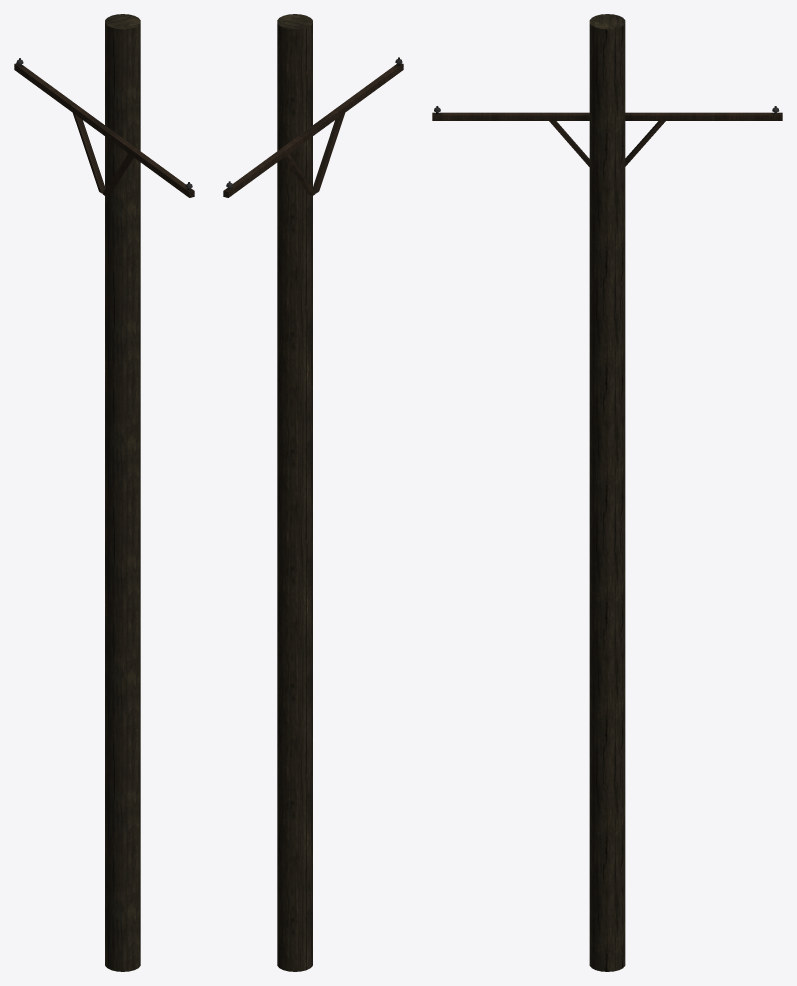
3 views of the same model, side by side, from view 1: azimuth 30°, elevation 25°; view 2: azimuth 150°, elevation 25°; view 3: azimuth 270°, elevation 25° (orthographic).
Visible parts, largest first — view 1: Telegraphpole; view 2: Telegraphpole; view 3: Telegraphpole.
Part boxes in pixels (left/top/right/bottom): Telegraphpole: left=14, top=14, right=194, bottom=971; Telegraphpole: left=223, top=14, right=403, bottom=971; Telegraphpole: left=432, top=14, right=782, bottom=971.
Size of the model in its own units: 0.0835 by 2 by 0.674.
1 material, 1 textured.
